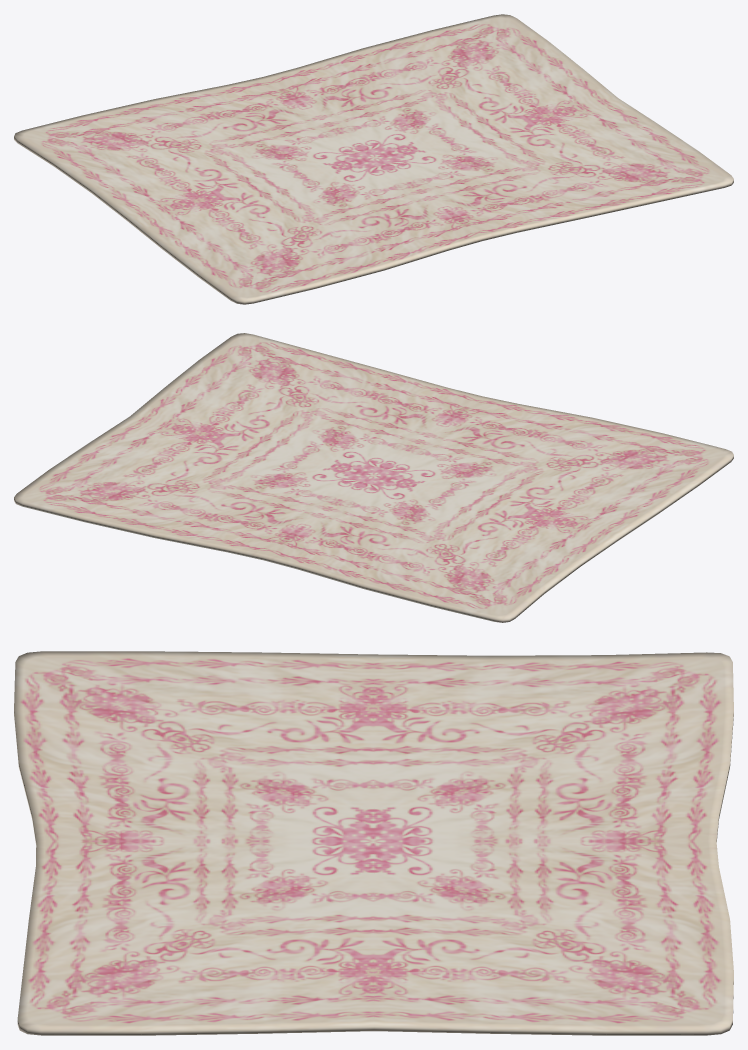
The model's file is RococoCarpet_HD.fbx.
3 renders of one model, top to bottom at view 1: azimuth 30°, elevation 25°; view 2: azimuth 150°, elevation 25°; view 3: azimuth 270°, elevation 25°, orthographic. The views are drawn at different scales.
Parts seen in each view (by area): view 1: RococoCarpet; view 2: RococoCarpet; view 3: RococoCarpet.
Part boxes in pixels (x1,y1,x2,y2): RococoCarpet: (14, 14, 733, 304); RococoCarpet: (14, 333, 733, 622); RococoCarpet: (14, 651, 733, 1035).
Size of the model in its own units: 2.31 by 0.016 by 1.86.
